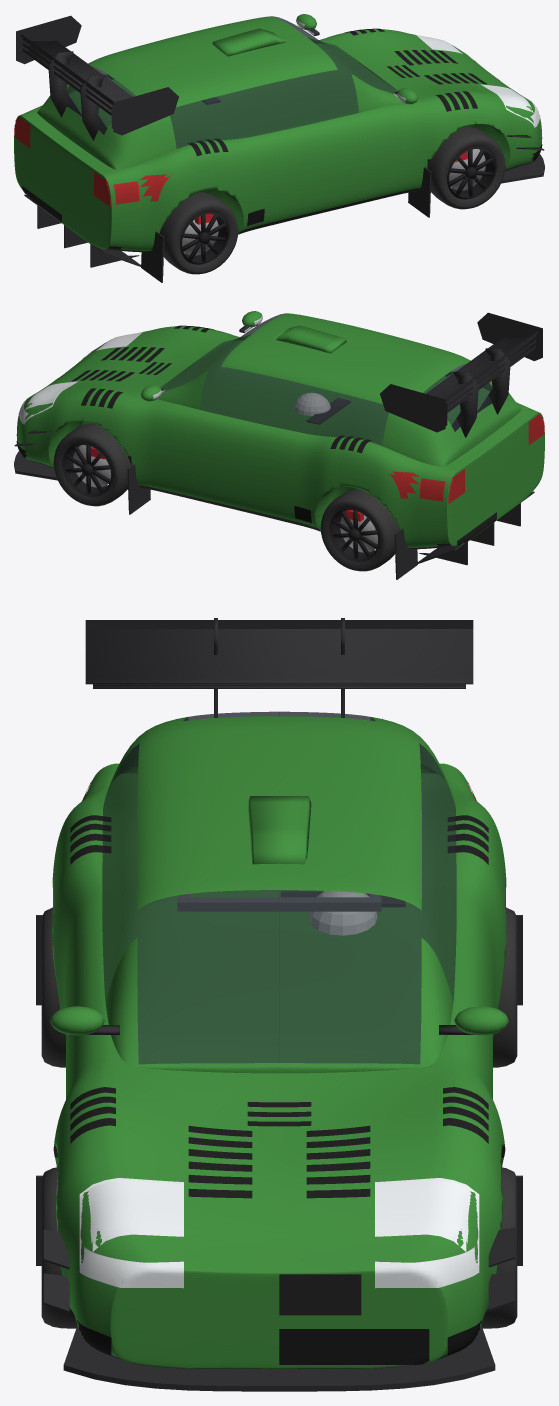
Rendered from skoda_fabia_rx.glb.
3 views of the same model, one above another, from view 1: azimuth 30°, elevation 25°; view 2: azimuth 150°, elevation 25°; view 3: azimuth 270°, elevation 25° (orthographic). The views are drawn at different scales.
Parts seen in each view (by area): view 1: body, cabin, bumper_rear, wing_rear_up3, wheel_fr_spin, wheel_rr_spin, bumper_front, mudflaps, diffuser, wing_rear_up2, wing_rear, splitter_up (+1 smaller); view 2: body, cabin, bumper_rear, wing_rear_up3, wheel_fl_spin, wheel_rl_spin, bumper_front, mudflaps, diffuser, interior, wing_rear_up2, wing_rear (+2 smaller); view 3: body, cabin, bumper_front, wing_rear_up3, splitter_up, interior, splitter, canards, wheel_rl_spin, wheel_rr_spin, mudflaps, wheel_fl_spin (+6 smaller).
Part boxes in pixels (x1,y1,x2,y2): body: [69, 28, 510, 252]; cabin: [37, 16, 401, 169]; bumper_rear: [14, 105, 140, 251]; wing_rear_up3: [16, 15, 178, 140]; wheel_fr_spin: [428, 126, 505, 209]; wheel_rr_spin: [159, 191, 238, 274]; bumper_front: [412, 34, 542, 170]; mudflaps: [141, 167, 431, 282]; diffuser: [24, 194, 140, 267]; wing_rear_up2: [18, 29, 113, 126]; wing_rear: [18, 36, 113, 128]; splitter_up: [490, 154, 544, 184]; body: [48, 325, 489, 549]; cabin: [157, 313, 521, 466]; bumper_rear: [418, 402, 544, 548]; wing_rear_up3: [380, 312, 542, 437]; wheel_fl_spin: [53, 423, 130, 506]; wheel_rl_spin: [320, 488, 399, 571]; bumper_front: [16, 331, 146, 467]; mudflaps: [127, 464, 417, 579]; diffuser: [418, 491, 534, 565]; interior: [294, 392, 350, 424]; wing_rear_up2: [445, 326, 540, 423]; wing_rear: [445, 333, 540, 425]; body: [52, 782, 506, 1308]; cabin: [102, 711, 456, 1073]; bumper_front: [62, 1178, 496, 1368]; wing_rear_up3: [85, 618, 473, 717]; splitter_up: [63, 1325, 495, 1391]; interior: [177, 891, 405, 935]; splitter: [70, 1334, 488, 1380]; canards: [42, 1227, 515, 1312]; wheel_rl_spin: [493, 907, 517, 1067]; wheel_rr_spin: [41, 907, 65, 1067]; mudflaps: [36, 915, 522, 1265]; wheel_fl_spin: [481, 1167, 517, 1328].
Bounding box in the file's own units: 4.15 × 1.66 × 1.95.
